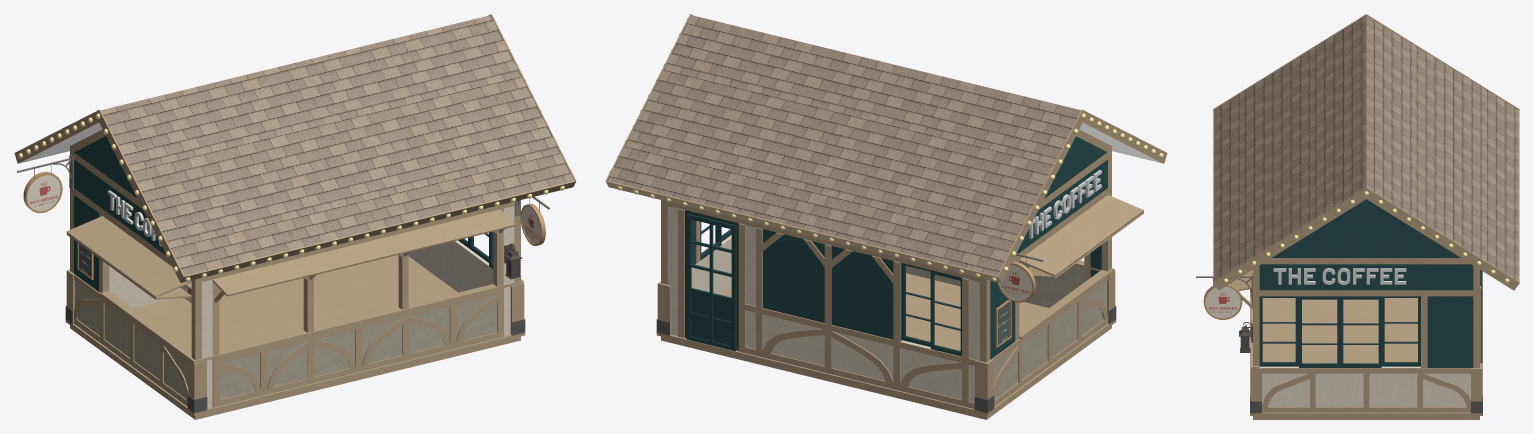
The picture shows the model from 3 angles, left to right: view 1: azimuth 30°, elevation 25°; view 2: azimuth 150°, elevation 25°; view 3: azimuth 270°, elevation 25°; orthographic projection. The views are drawn at different scales.
Visible parts, largest first — view 1: Geom3D (×6), Geom3D_ (×14), Geom3D_Thanh dinh#1 (×2), Geom3D_Component#24 (×4), Geom3D_Component#35, Geom3D_Component#29, Geom3D_Thanh dinh#4 (×2), Geom3D_Bo goc#1 (×2), Geom3D_Component#23 (×2), Geom3D_Component#22, Geom3D_THE COFFEE#1; view 2: Geom3D (×9), Geom3D_ (×12), Geom3D_Component#36 (×6), Geom3D_Thanh dinh#5 (×2), Geom3D_Component#35, Geom3D_Component#22 (×3), Geom3D_Component#32, Geom3D_Thanh dinh#4 (×2), Geom3D_Bo goc#1 (×2), Geom3D_Component#23 (×2), Geom3D_THE COFFEE#1, Geom3D_Component#25 (+2 smaller); view 3: Geom3D (×3), Geom3D_ (×7), Geom3D_Component#23 (×2), Geom3D_Thanh dinh#4 (×2), Geom3D_Component#25 (×2), Geom3D_Component#27 (×2), Geom3D_Component#22 (×2), Geom3D_THE COFFEE#1, Geom3D_Bo goc#1 (×2), Geom3D_Component#26 (×2), Geom3D_Component#35 (×2), Geom3D_Component#21.
Boxes of the visible parts, left/top/right/bottom form: Geom3D (×6): left=27, top=15, right=574, bottom=408; Geom3D_ (×14): left=14, top=109, right=525, bottom=419; Geom3D_Thanh dinh#1 (×2): left=220, top=289, right=497, bottom=405; Geom3D_Component#24 (×4): left=212, top=208, right=503, bottom=355; Geom3D_Component#35: left=182, top=181, right=574, bottom=282; Geom3D_Component#29: left=202, top=202, right=514, bottom=281; Geom3D_Thanh dinh#4 (×2): left=74, top=274, right=188, bottom=406; Geom3D_Bo goc#1 (×2): left=188, top=283, right=524, bottom=399; Geom3D_Component#23 (×2): left=74, top=153, right=191, bottom=280; Geom3D_Component#22: left=191, top=278, right=201, bottom=360; Geom3D_THE COFFEE#1: left=107, top=190, right=161, bottom=246; Geom3D (×9): left=607, top=15, right=1080, bottom=402; Geom3D_ (×12): left=656, top=109, right=1167, bottom=419; Geom3D_Component#36 (×6): left=678, top=208, right=969, bottom=407; Geom3D_Thanh dinh#5 (×2): left=745, top=304, right=975, bottom=408; Geom3D_Component#35: left=607, top=181, right=999, bottom=282; Geom3D_Component#22 (×3): left=661, top=144, right=1111, bottom=362; Geom3D_Component#32: left=667, top=202, right=979, bottom=281; Geom3D_Thanh dinh#4 (×2): left=992, top=276, right=1107, bottom=406; Geom3D_Bo goc#1 (×2): left=657, top=281, right=993, bottom=399; Geom3D_Component#23 (×2): left=990, top=152, right=1107, bottom=280; Geom3D_THE COFFEE#1: left=1029, top=170, right=1101, bottom=238; Geom3D_Component#25: left=930, top=270, right=961, bottom=356; Geom3D (×3): left=1205, top=15, right=1518, bottom=406; Geom3D_ (×7): left=1213, top=14, right=1519, bottom=419; Geom3D_Component#23 (×2): left=1259, top=258, right=1473, bottom=296; Geom3D_Thanh dinh#4 (×2): left=1262, top=368, right=1470, bottom=412; Geom3D_Component#25 (×2): left=1299, top=296, right=1381, bottom=367; Geom3D_Component#27 (×2): left=1259, top=296, right=1420, bottom=366; Geom3D_Component#22 (×2): left=1253, top=265, right=1479, bottom=367; Geom3D_THE COFFEE#1: left=1273, top=268, right=1406, bottom=284; Geom3D_Bo goc#1 (×2): left=1250, top=363, right=1482, bottom=401; Geom3D_Component#26 (×2): left=1262, top=373, right=1470, bottom=407; Geom3D_Component#35 (×2): left=1213, top=110, right=1519, bottom=281; Geom3D_Component#21: left=1421, top=296, right=1427, bottom=367.
Size of the model in its own units: 7.67 by 4.8 by 5.7.
Materials: 28 (11 with a texture image).
